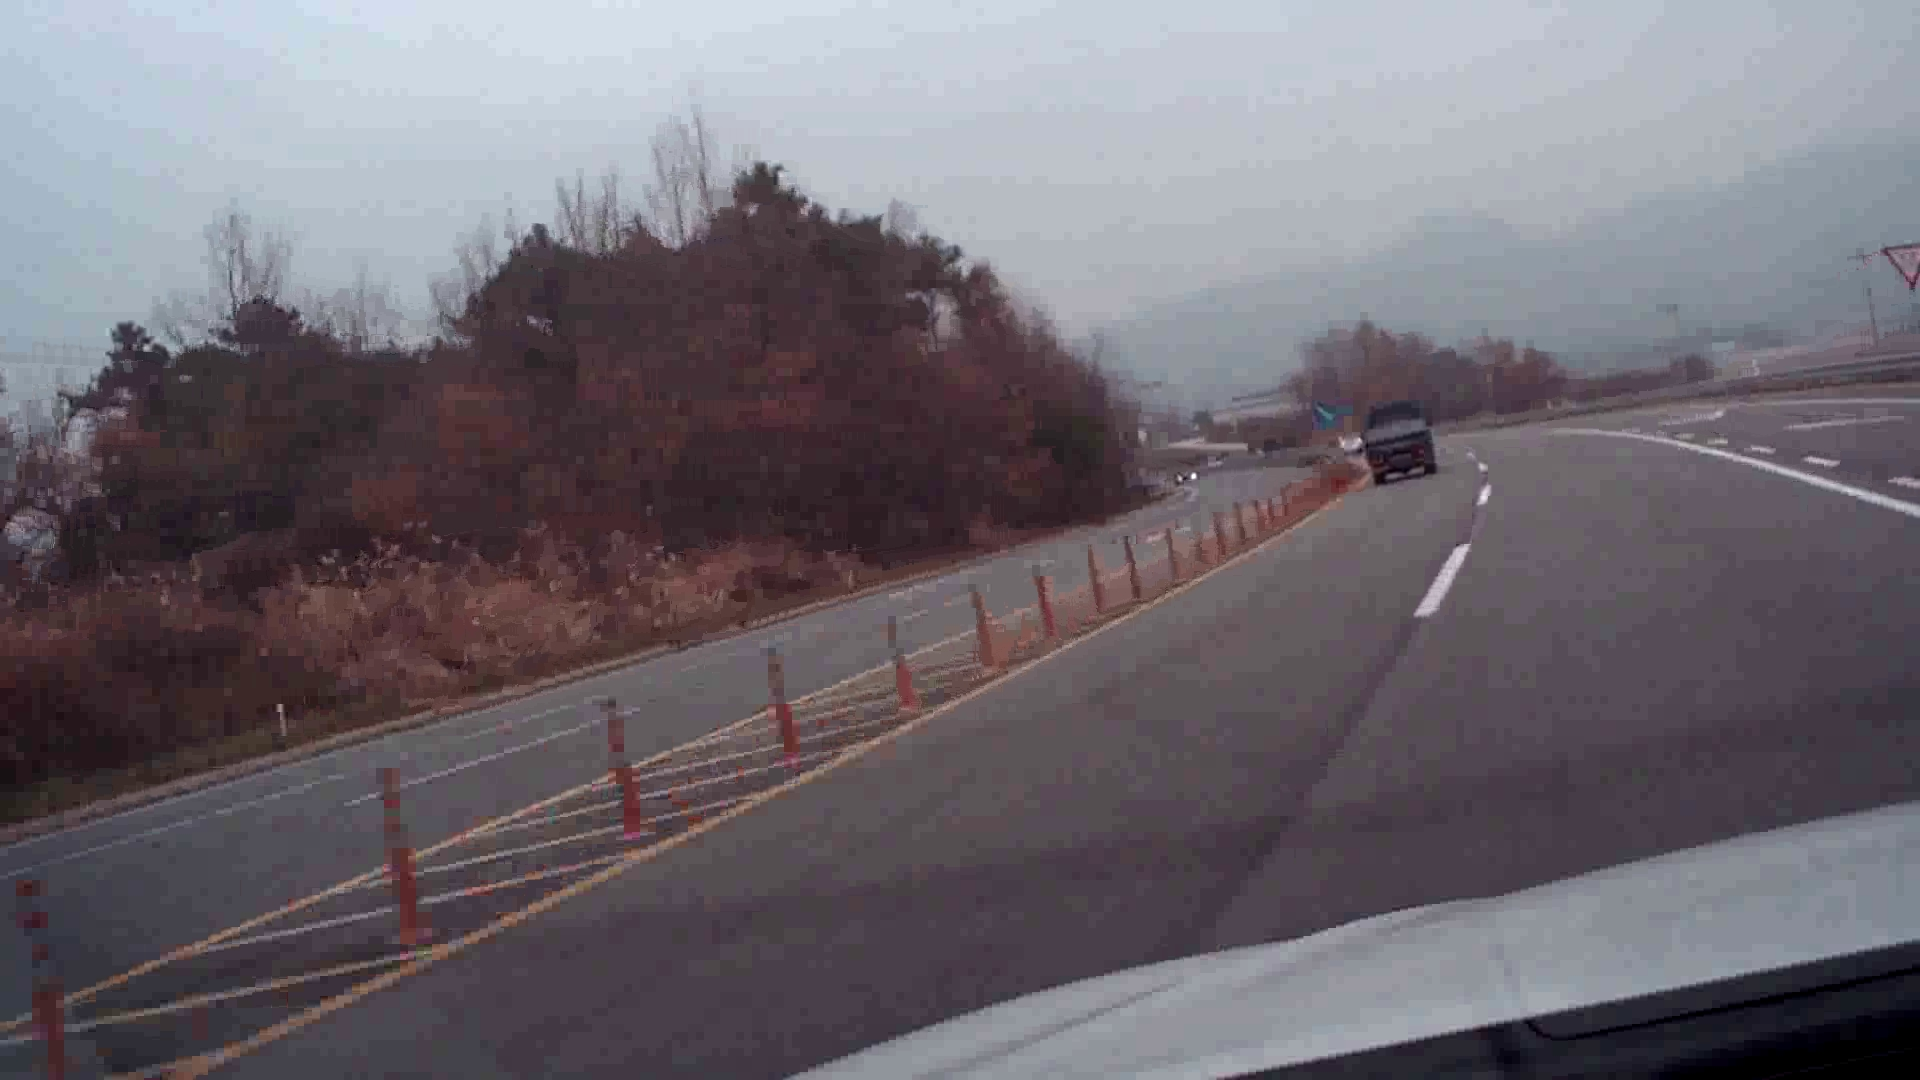trafficSignCircle: (1313, 401, 1342, 427)
trafficSignTri: (1879, 237, 1920, 289)
